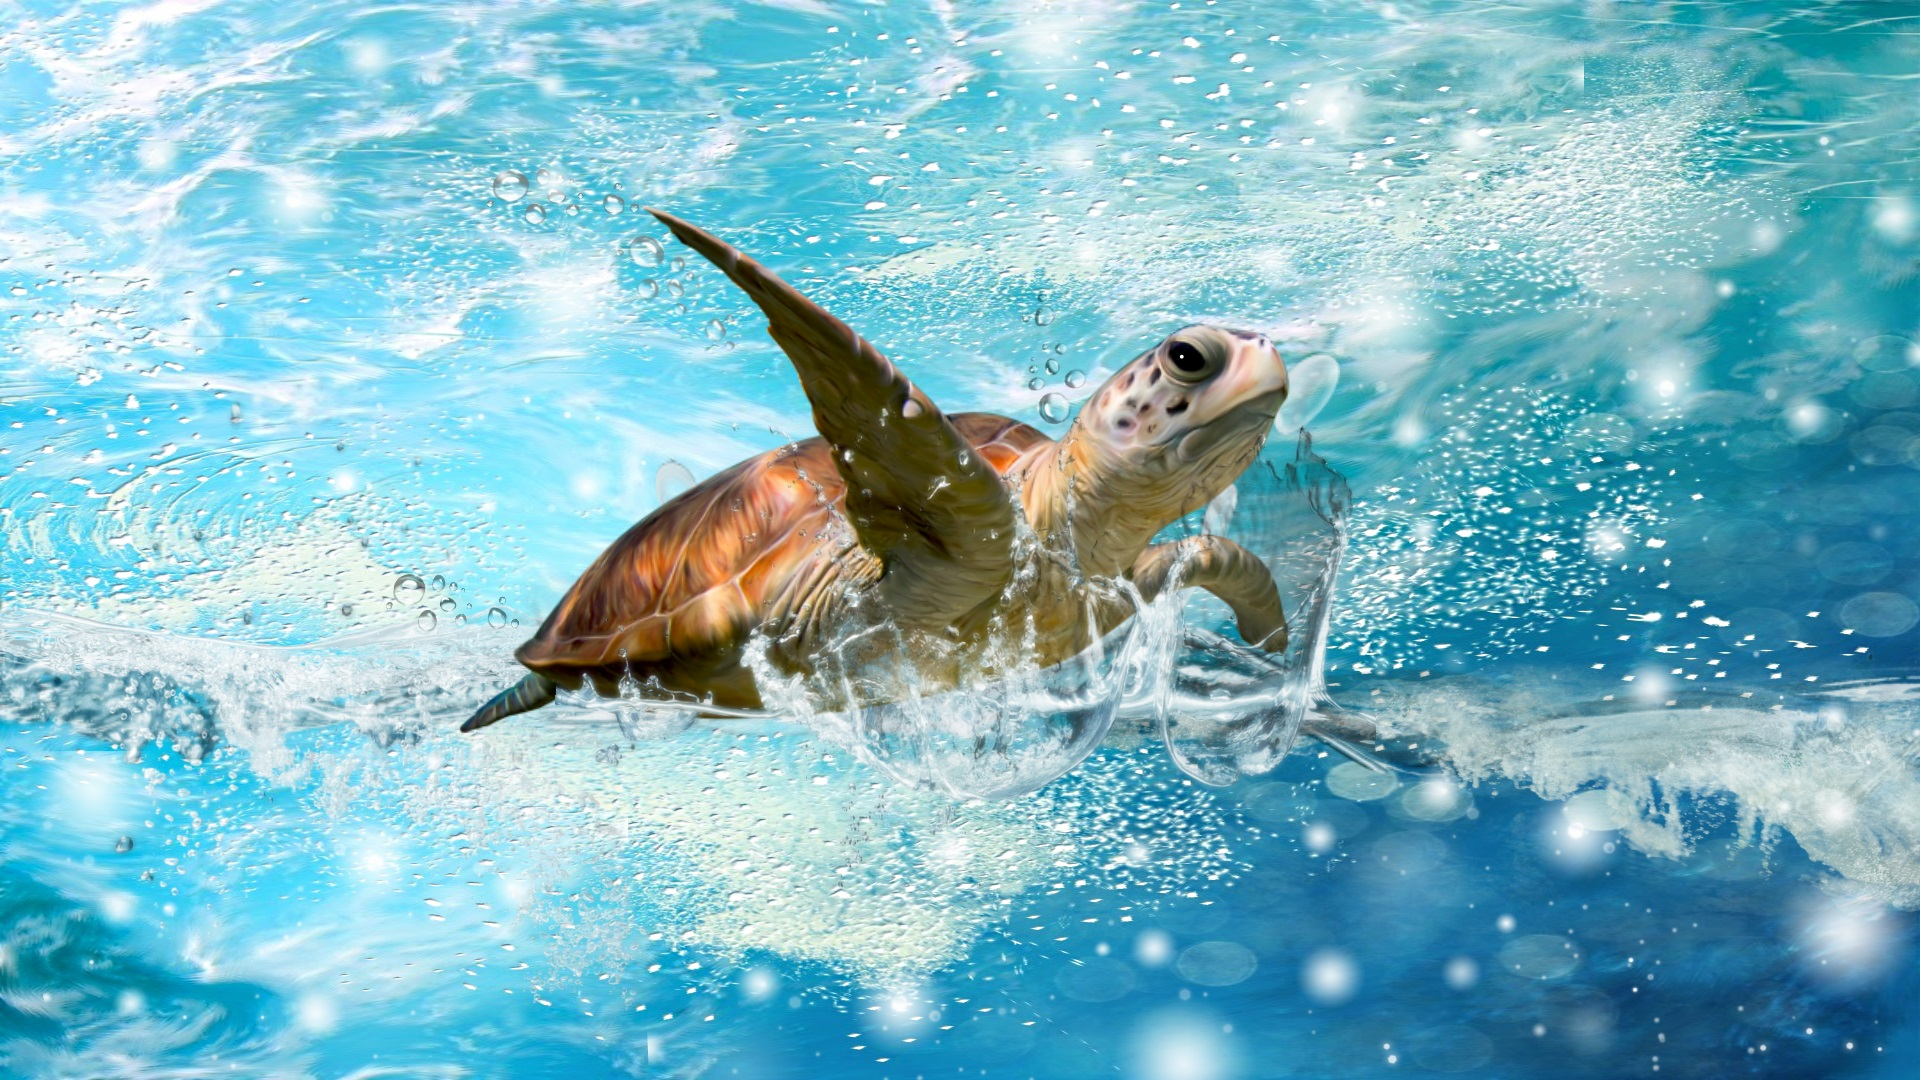eye: (1160, 323, 1225, 378)
mouth: (1153, 378, 1298, 465)
